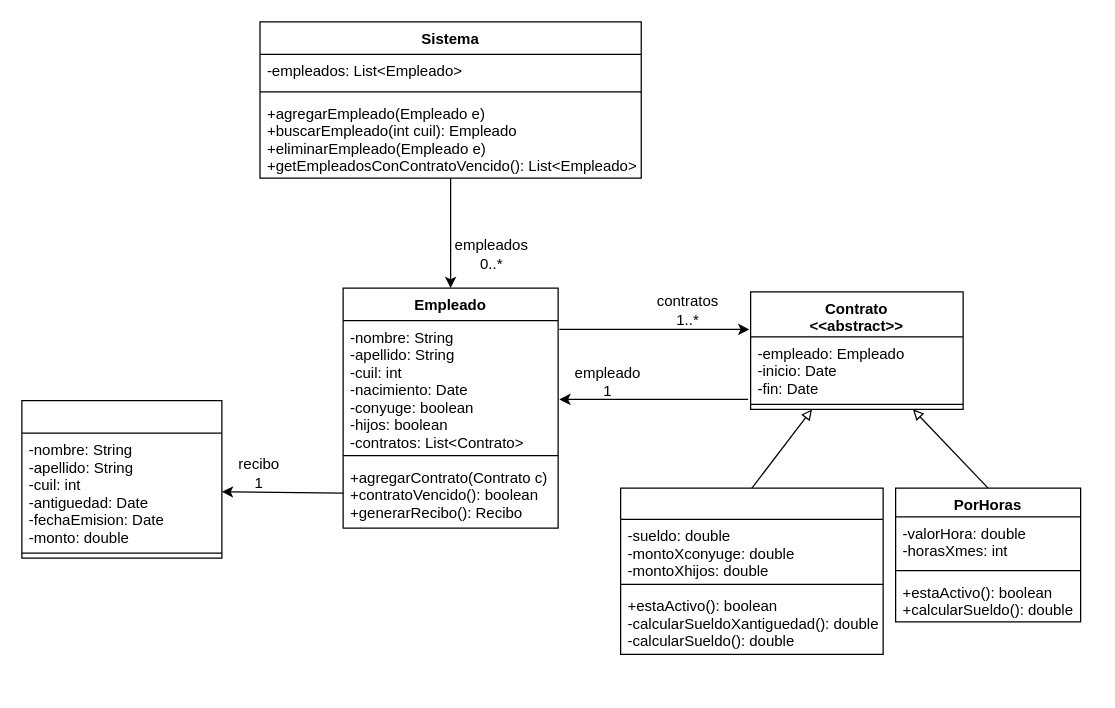
Image size: 1115x708. Some labels were removed from this diagram. The shapes that lost their labels are listed below. From the top down, each one's box as (x1, y1, x2, y2) in pixels, then its label:
(21, 399, 222, 558): Recibo
(619, 487, 883, 654): DePlanta
